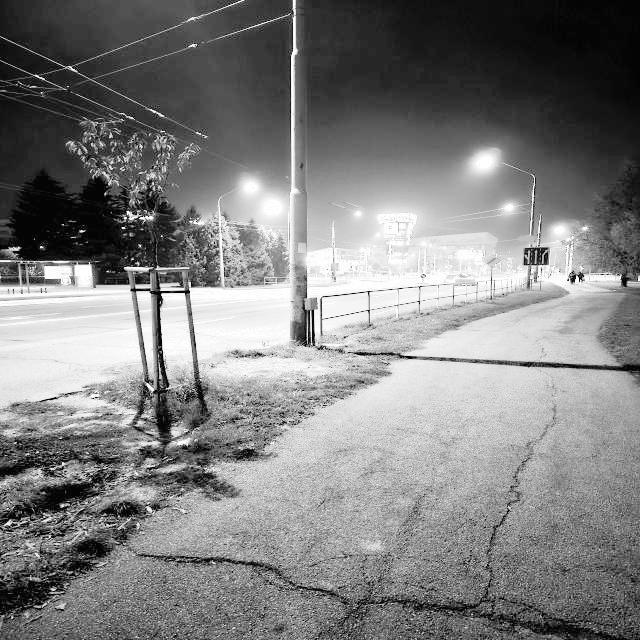Light: (475, 155, 538, 289), (213, 175, 264, 291), (490, 199, 545, 287), (326, 206, 369, 276), (550, 221, 591, 281), (418, 241, 433, 276), (434, 246, 448, 275), (361, 247, 373, 275), (336, 254, 347, 274)
Tree: (58, 109, 204, 410)
